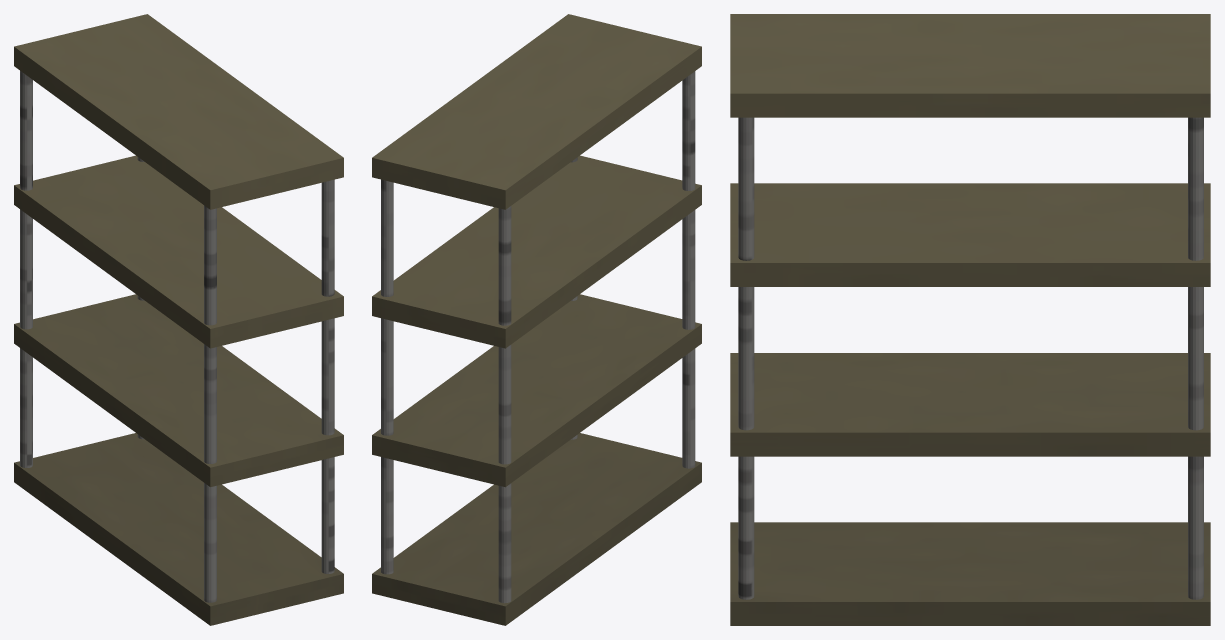
The model's file is Shelf.glb.
3 renders of one model, left to right at view 1: azimuth 30°, elevation 25°; view 2: azimuth 150°, elevation 25°; view 3: azimuth 270°, elevation 25°, orthographic. The views are drawn at different scales.
Visible parts, largest first — view 1: ShelfShelf_Baked, ShelfPoles_Baked; view 2: ShelfShelf_Baked, ShelfPoles_Baked; view 3: ShelfShelf_Baked, ShelfPoles_Baked.
Part boxes in pixels (<box>): ShelfShelf_Baked: <box>14,14,343,625</box>; ShelfPoles_Baked: <box>20,71,334,602</box>; ShelfShelf_Baked: <box>372,14,701,625</box>; ShelfPoles_Baked: <box>381,71,695,603</box>; ShelfShelf_Baked: <box>730,14,1210,625</box>; ShelfPoles_Baked: <box>738,117,1203,599</box>.
Bounding box in the file's own units: 3.02 × 9.42 × 7.7.
2 materials, 2 textured.
